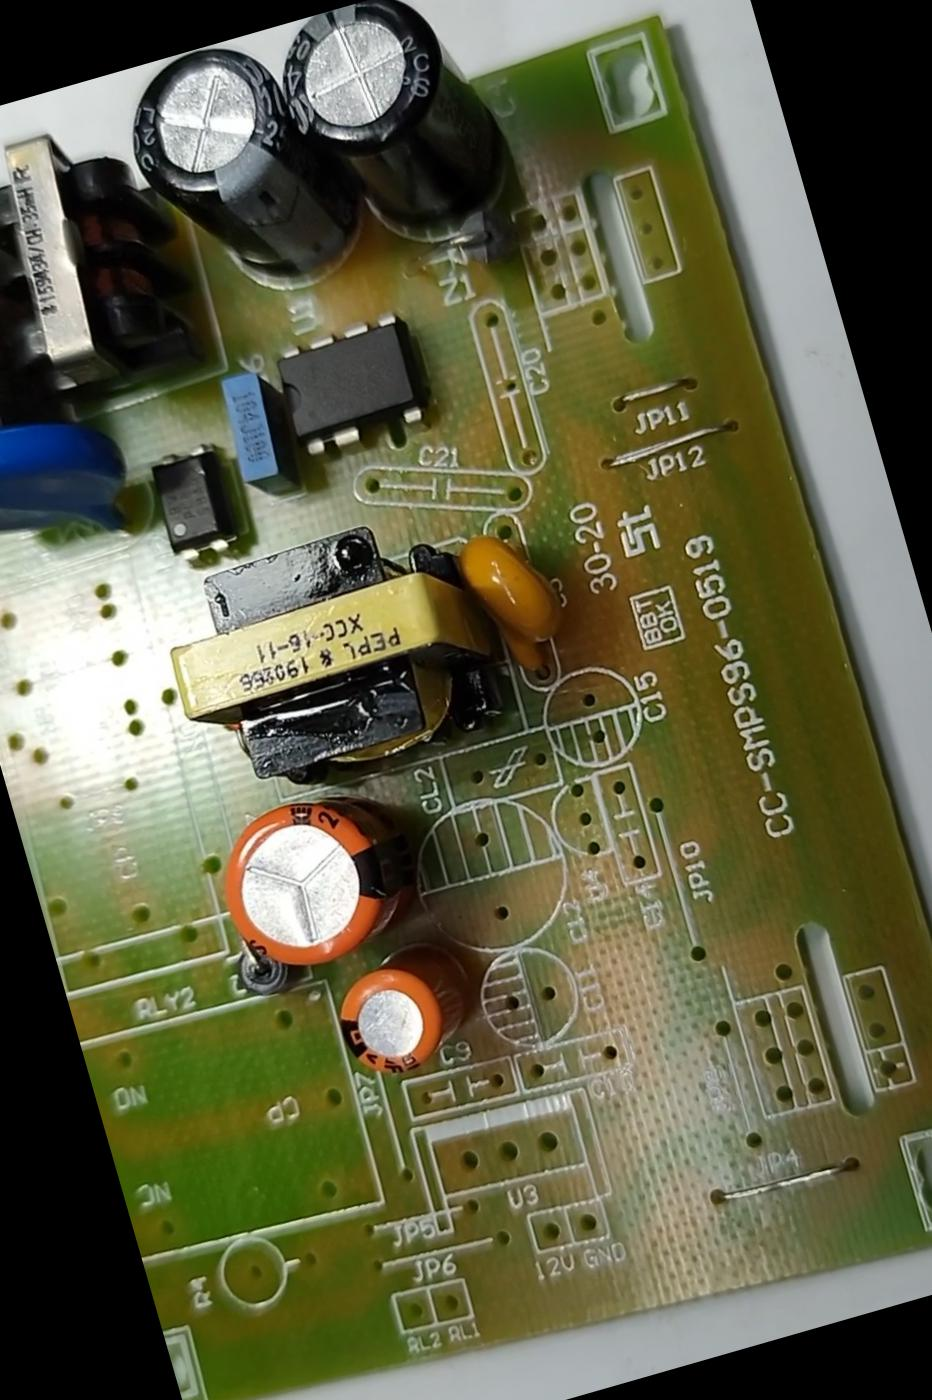Cap1: (164, 768, 440, 1009)
Cap2: (318, 932, 522, 1116)
Cap3: (100, 12, 396, 319)
Cap4: (244, 0, 538, 313)
MOSFET: (249, 287, 451, 486)
Mov: (0, 372, 154, 594)
Transformer: (125, 484, 569, 830), (0, 101, 232, 440)
